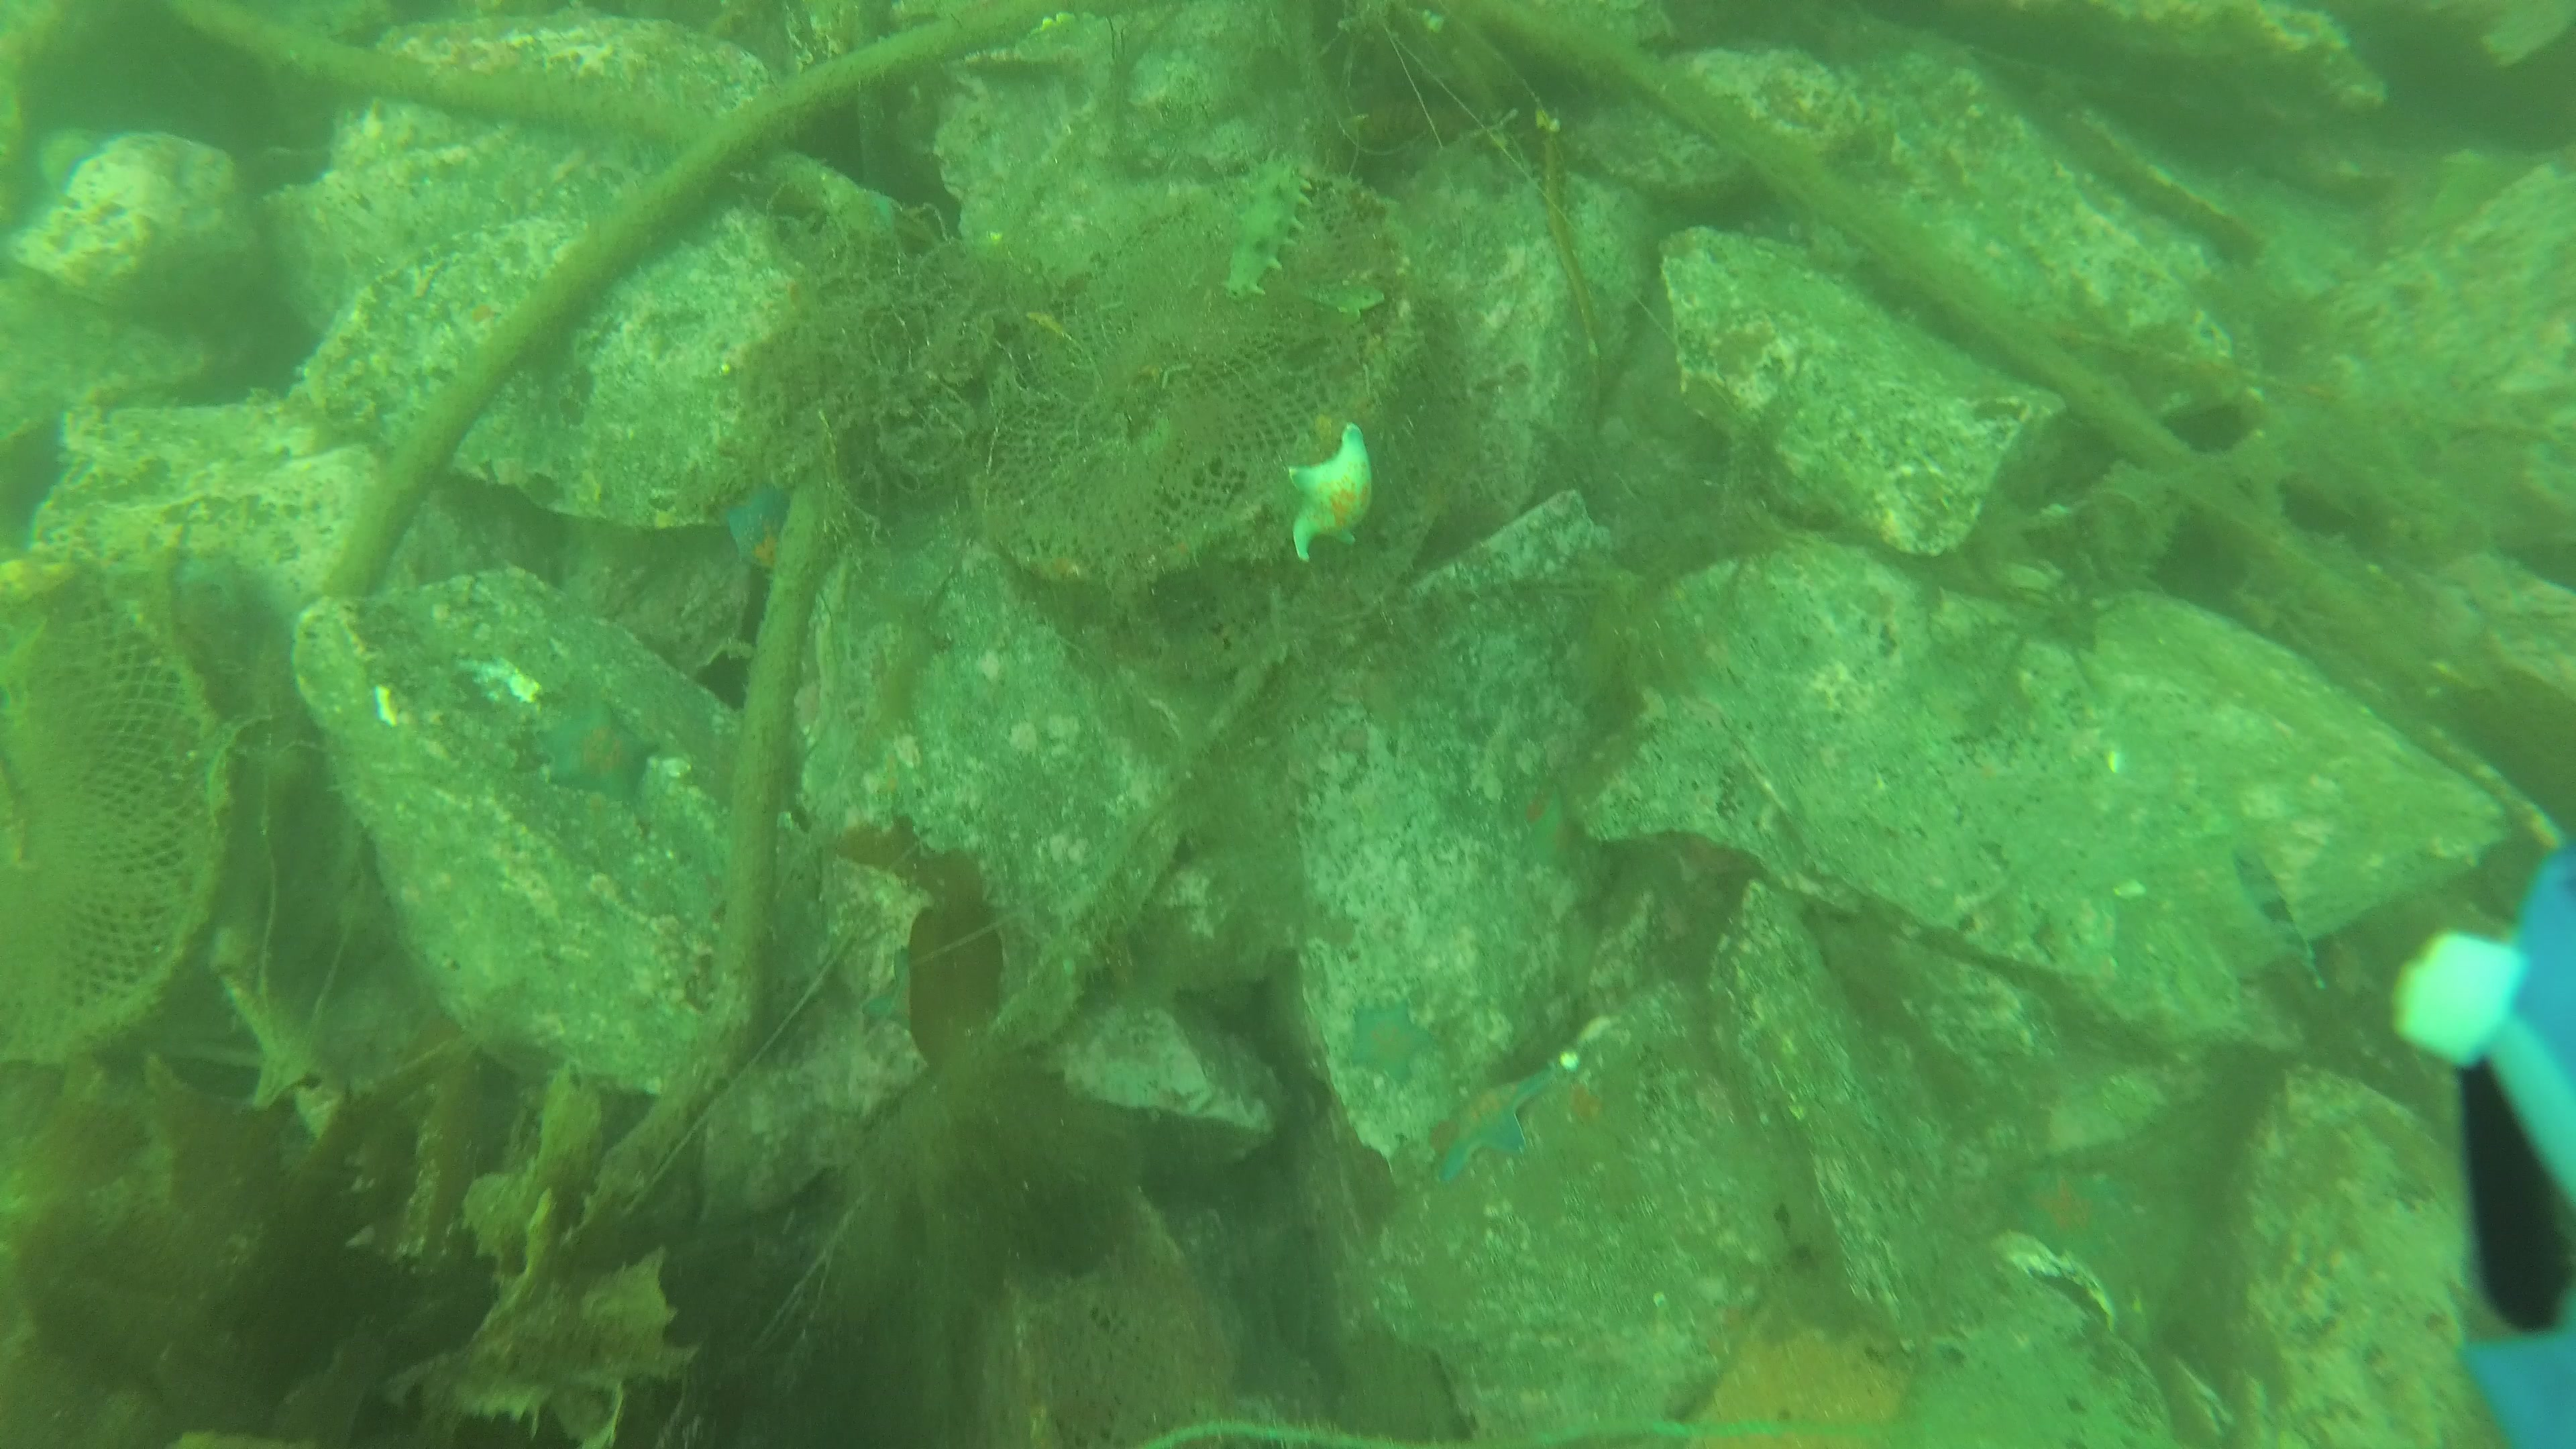holothurian: (1223, 150, 1318, 306)
starfish: (1431, 1060, 1566, 1192), (527, 690, 663, 809), (1281, 419, 1380, 563), (1332, 991, 1444, 1092), (2015, 1159, 2116, 1263), (717, 481, 793, 584)
